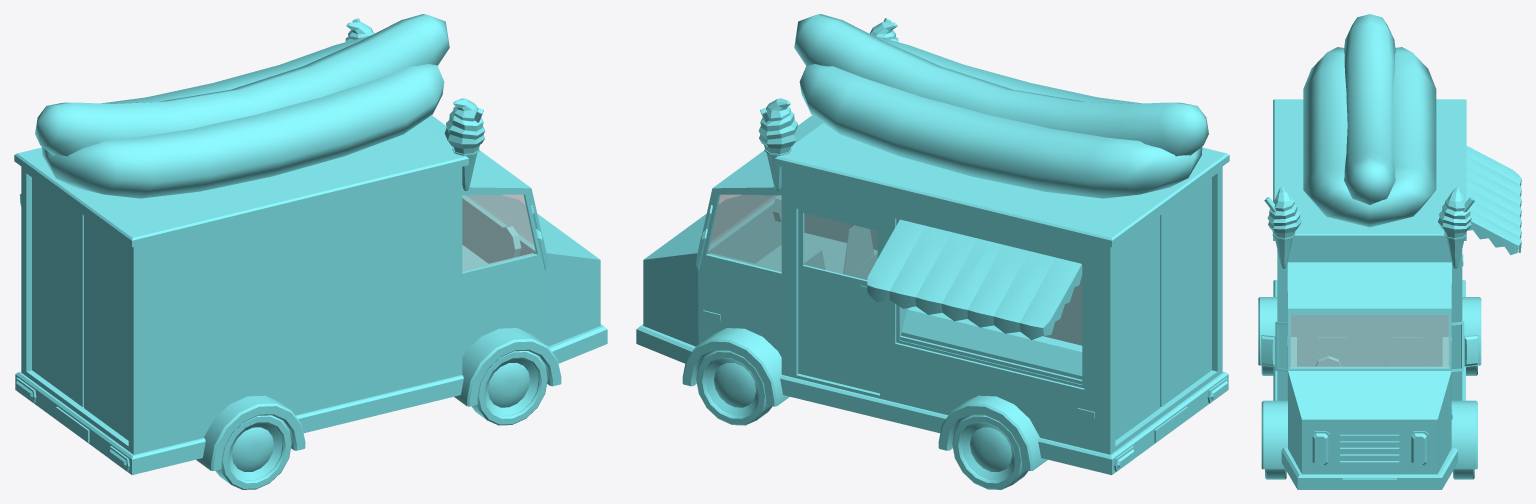
The model's file is Tourist Ice Cream Van.fbx.
3 views of the same model, side by side, from view 1: azimuth 30°, elevation 25°; view 2: azimuth 150°, elevation 25°; view 3: azimuth 270°, elevation 25° (orthographic). The views are drawn at different scales.
Visible parts, largest first — view 1: TouristVan_Body_geo, HotDog_geo, TouristVan_Front_geo, TouristVan_Panels_geo, TouristVanGlass_geo, wheelBack_R_geo, wheelFront_R_geo, IceCream_geo; view 2: TouristVan_Body_geo, HotDog_geo, TouristVan_Panels_geo, TouristVan_Front_geo, TouristVan_Curtain_geo, TouristVanGlass_geo, wheelBack_L_geo, wheelFront_L_geo, IceCream_geo; view 3: TouristVan_Front_geo, HotDog_geo, TouristVan_Panels_geo, TouristVan_Body_geo, TouristVanGlass_geo, TouristVan_Curtain_geo, IceCream_geo.
Part boxes in pixels (box(x1,y1,x2,y2)): TouristVan_Body_geo: box(14, 123, 468, 475); HotDog_geo: box(35, 14, 449, 198); TouristVan_Front_geo: box(421, 115, 607, 363); TouristVan_Panels_geo: box(15, 195, 561, 471); TouristVanGlass_geo: box(462, 194, 535, 271); wheelBack_R_geo: box(215, 415, 291, 489); wheelFront_R_geo: box(471, 351, 547, 425); IceCream_geo: box(345, 18, 485, 190); TouristVan_Body_geo: box(775, 123, 1229, 475); HotDog_geo: box(794, 14, 1208, 198); TouristVan_Panels_geo: box(682, 195, 1228, 471); TouristVan_Front_geo: box(636, 115, 822, 363); TouristVan_Curtain_geo: box(867, 219, 1082, 340); TouristVanGlass_geo: box(708, 194, 1081, 345); wheelBack_L_geo: box(952, 415, 1028, 489); wheelFront_L_geo: box(696, 351, 772, 425); IceCream_geo: box(758, 18, 898, 190); TouristVan_Front_geo: box(1281, 262, 1457, 489); HotDog_geo: box(1303, 14, 1436, 227); TouristVan_Panels_geo: box(1258, 254, 1481, 489); TouristVan_Body_geo: box(1273, 99, 1466, 400); TouristVanGlass_geo: box(1290, 315, 1449, 366); TouristVan_Curtain_geo: box(1466, 146, 1521, 255); IceCream_geo: box(1264, 187, 1474, 268).
Bounding box in the file's own units: 682 × 456 × 358.
